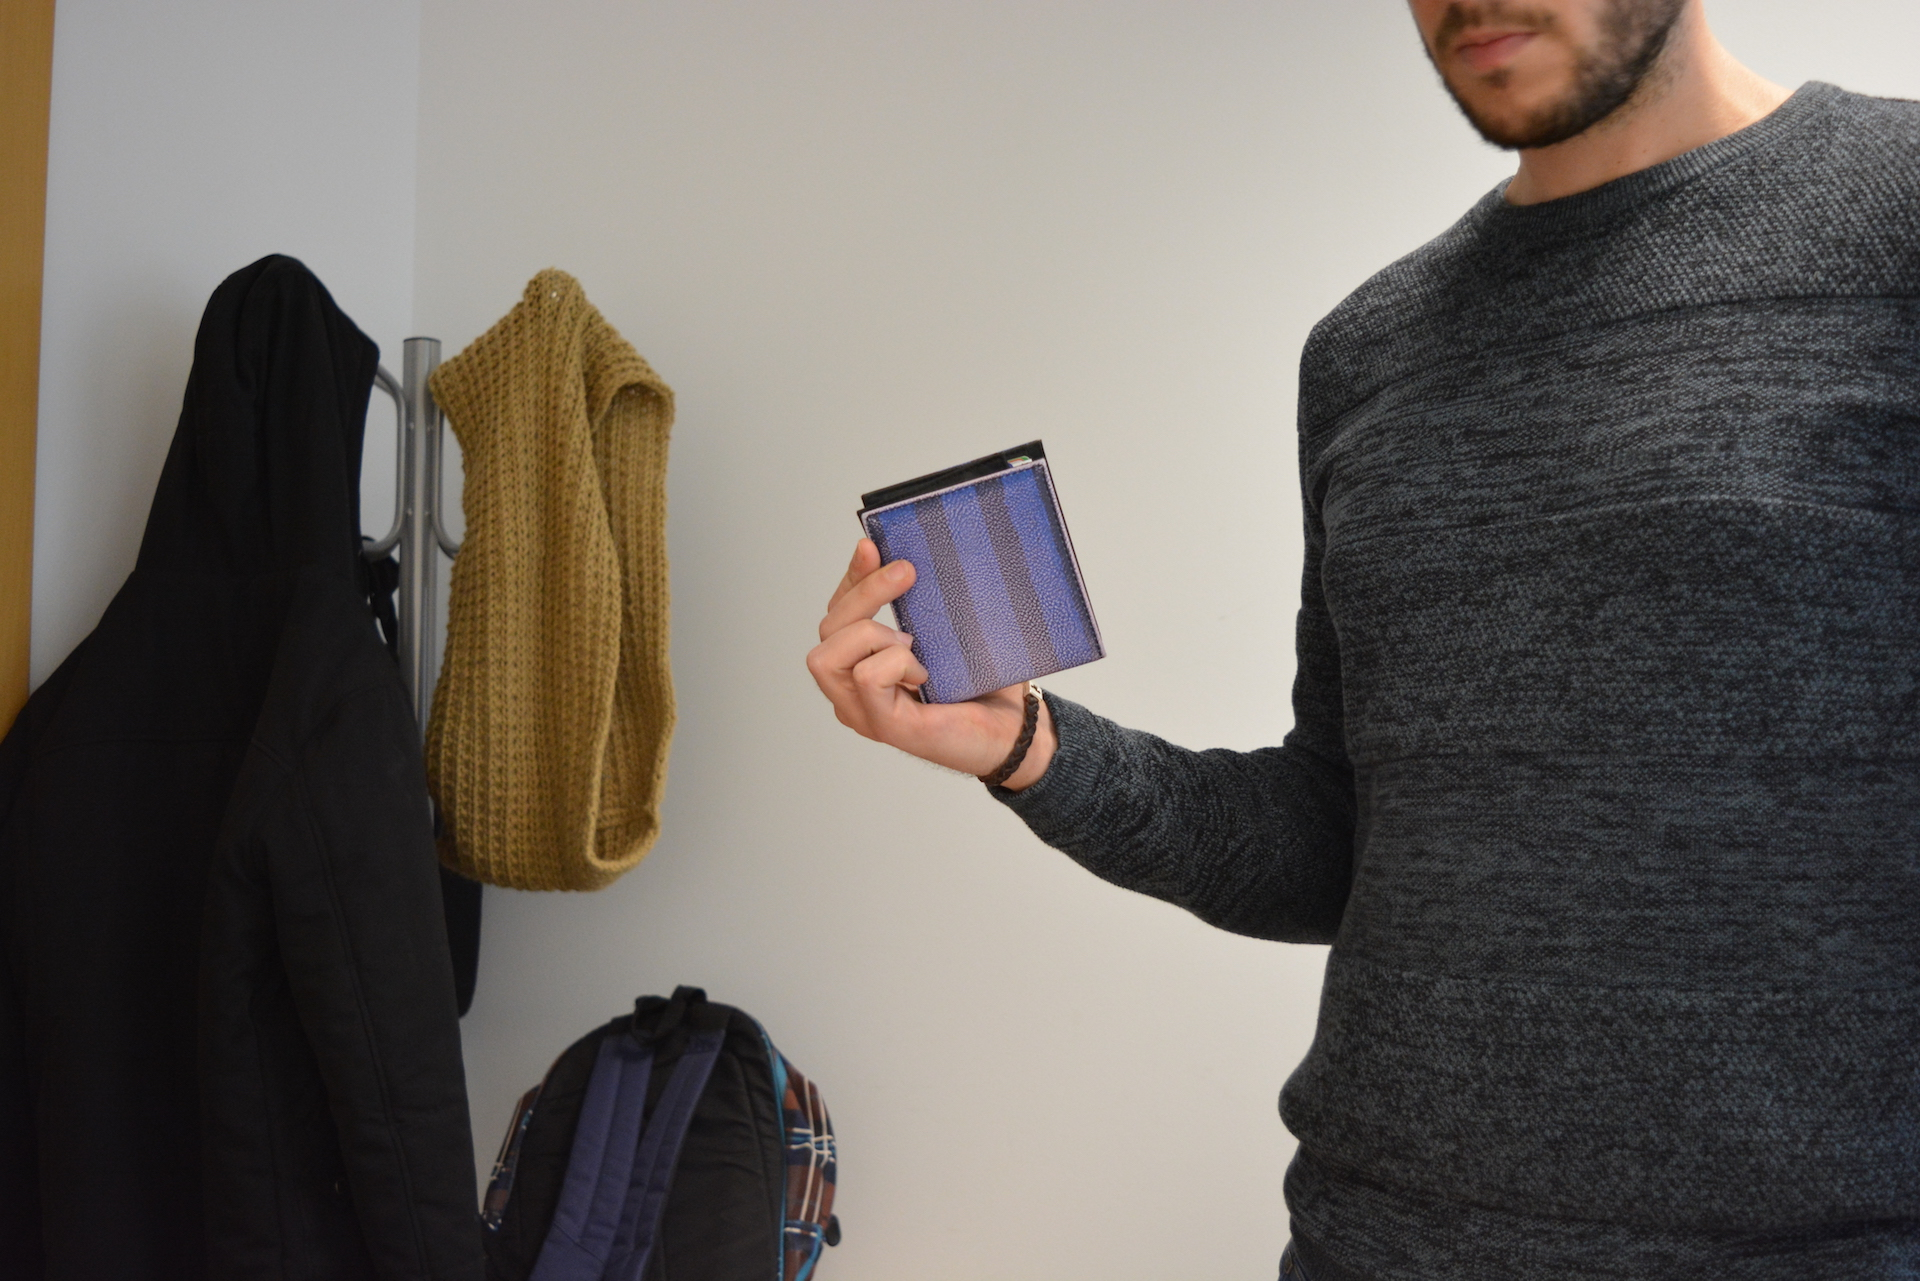monedero: (855, 437, 1109, 708)
